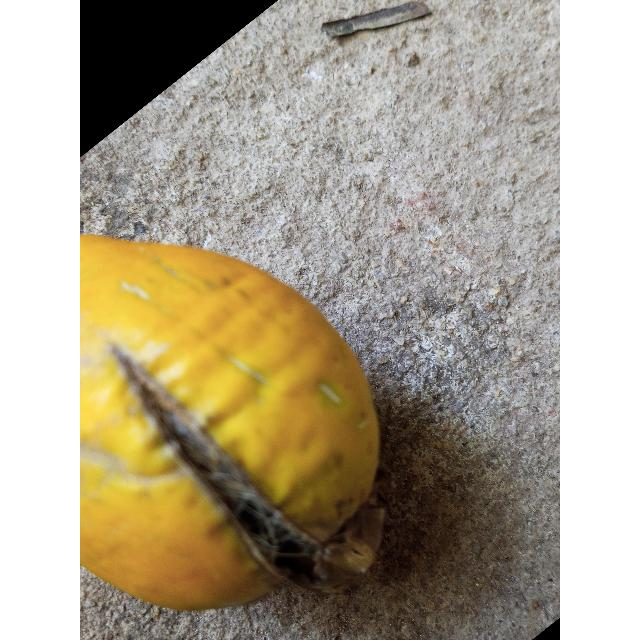damaged: (80, 235, 381, 614)
